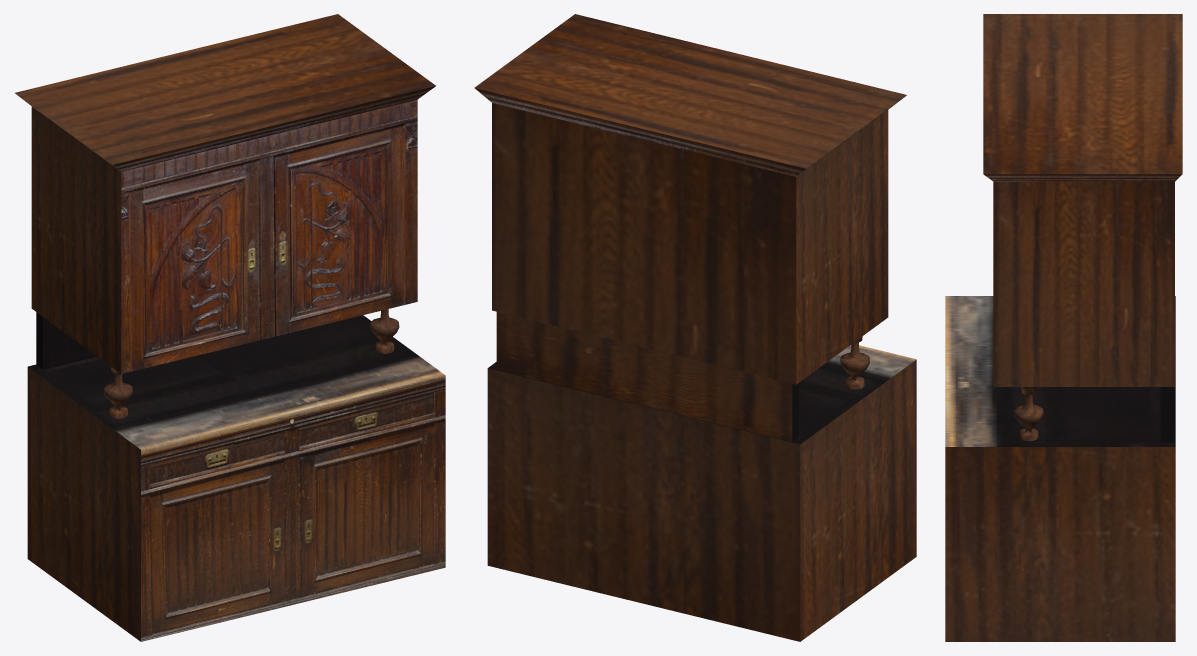
File: wardrobe_5.fbx
3 views of the same model, side by side, from view 1: azimuth 30°, elevation 25°; view 2: azimuth 150°, elevation 25°; view 3: azimuth 270°, elevation 25° (orthographic). The views are drawn at different scales.
Parts seen in each view (by area): view 1: Cube.001, Cube, Cube.002, Circle, Circle.001; view 2: Cube.001, Cube, Cube.002, Circle; view 3: Cube.001, Cube, Circle.001, Cube.002.
Part boxes in pixels (x1=…): Cube.001: x1=15, y1=14, x2=435, y2=373; Cube: x1=27, y1=315, x2=445, y2=641; Cube.002: x1=36, y1=312, x2=96, y2=369; Circle: x1=104, y1=367, x2=132, y2=418; Circle.001: x1=370, y1=309, x2=399, y2=353; Cube.001: x1=474, y1=14, x2=906, y2=384; Cube: x1=487, y1=345, x2=916, y2=641; Cube.002: x1=496, y1=312, x2=798, y2=441; Circle: x1=840, y1=336, x2=869, y2=389; Cube.001: x1=983, y1=14, x2=1182, y2=386; Cube: x1=945, y1=296, x2=1175, y2=641; Circle.001: x1=1014, y1=387, x2=1043, y2=441; Cube.002: x1=1160, y1=387, x2=1174, y2=442.
Bounding box in the file's own units: 329 × 453 × 206.
